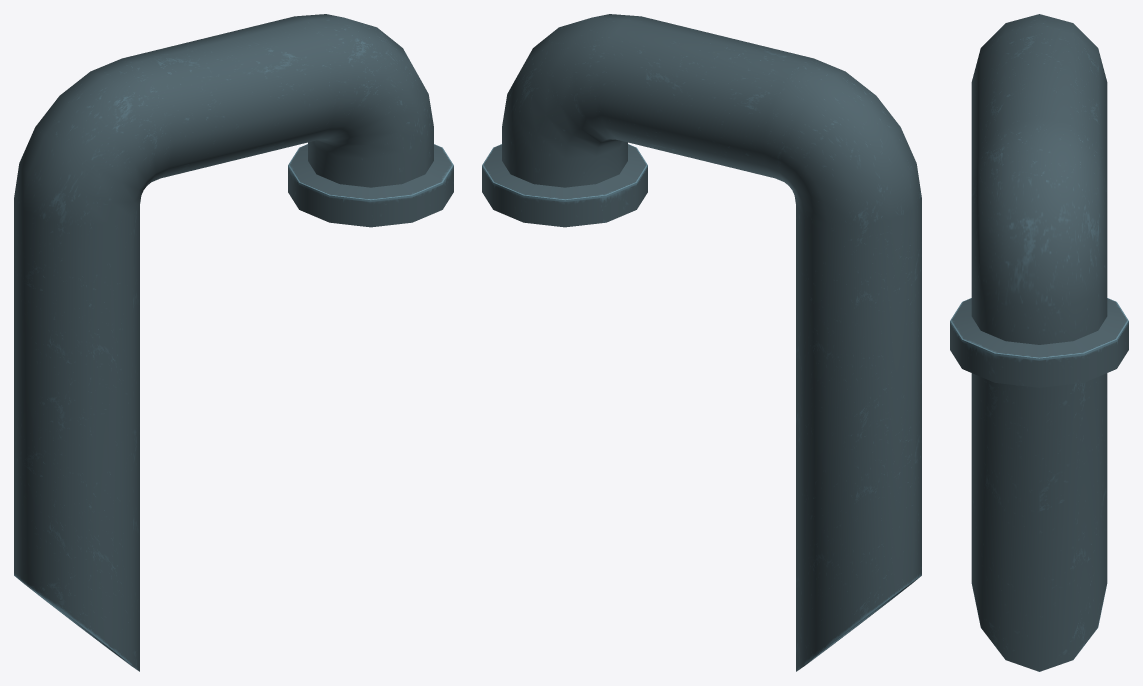
File: Pipe_A.fbx
The picture shows the model from 3 angles, left to right: view 1: azimuth 30°, elevation 25°; view 2: azimuth 150°, elevation 25°; view 3: azimuth 270°, elevation 25°; orthographic projection. The views are drawn at different scales.
Visible parts, largest first — view 1: Object012; view 2: Object012; view 3: Object012.
Part boxes in pixels (x1,y1,x2,y2): Object012: [14, 14, 453, 671]; Object012: [482, 14, 921, 671]; Object012: [950, 14, 1128, 671].
Size of the model in its own units: 238 by 326 by 81.29.
